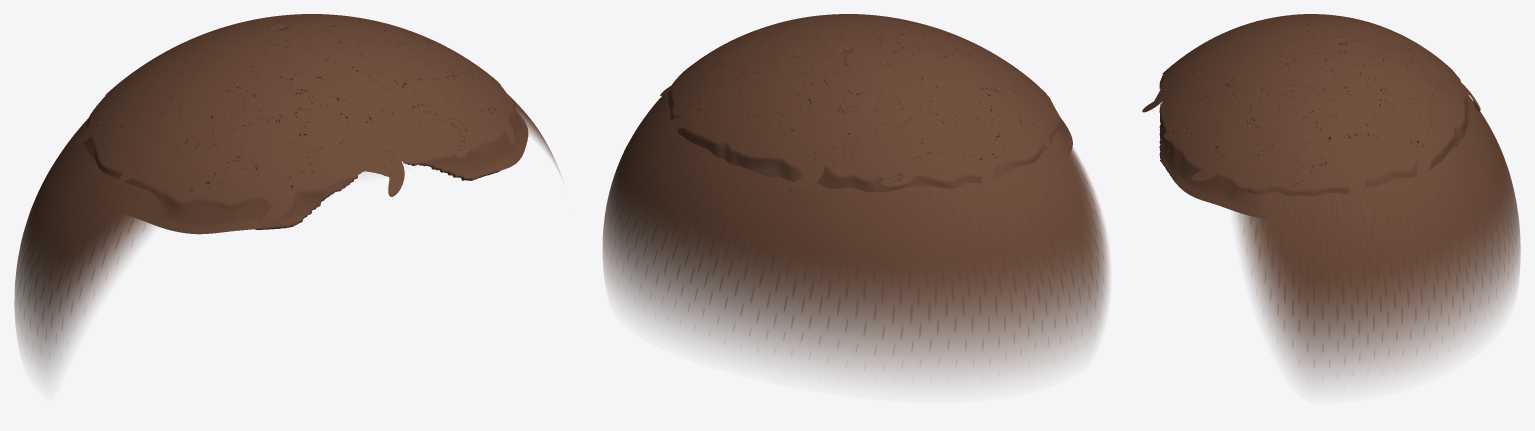
The model's file is Masculine-curly-top-cap258-hair-ombre.glb.
The picture shows the model from 3 angles, left to right: view 1: azimuth 30°, elevation 25°; view 2: azimuth 150°, elevation 25°; view 3: azimuth 270°, elevation 25°; orthographic projection. The views are drawn at different scales.
Parts seen in each view (by area): view 1: 226 hair / Hair252 / sculpted curl groups, 226 hair / Hair258 / smooth side fade, 226 hair / Hair258 / directional fade marks; view 2: 226 hair / Hair258 / smooth side fade, 226 hair / Hair252 / sculpted curl groups, 226 hair / Hair258 / directional fade marks; view 3: 226 hair / Hair258 / smooth side fade, 226 hair / Hair252 / sculpted curl groups, 226 hair / Hair258 / directional fade marks.
Boxes of the visible parts, x1,y1,x2,y2 form: 226 hair / Hair252 / sculpted curl groups: (71, 14, 528, 234); 226 hair / Hair258 / smooth side fade: (14, 94, 561, 377); 226 hair / Hair258 / directional fade marks: (16, 99, 532, 335); 226 hair / Hair258 / smooth side fade: (603, 93, 1109, 381); 226 hair / Hair252 / sculpted curl groups: (660, 14, 1072, 194); 226 hair / Hair258 / directional fade marks: (611, 93, 1103, 353); 226 hair / Hair258 / smooth side fade: (1233, 94, 1520, 384); 226 hair / Hair252 / sculpted curl groups: (1142, 14, 1480, 216); 226 hair / Hair258 / directional fade marks: (1238, 100, 1515, 366).
Bounding box in the file's own units: 0.9705 × 0.584 × 0.7277.
